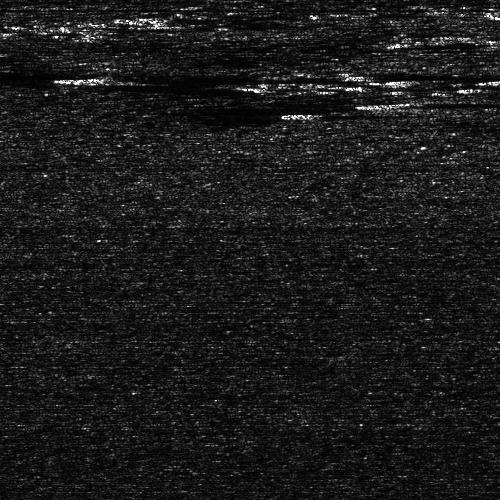object: (295, 70, 420, 79), (40, 70, 133, 81), (343, 100, 448, 107), (272, 110, 325, 115)
shadow: (87, 70, 335, 81), (358, 70, 500, 79), (396, 100, 500, 107), (299, 110, 428, 115)
